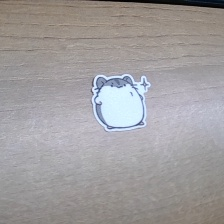mouse: (90, 72, 154, 132)
